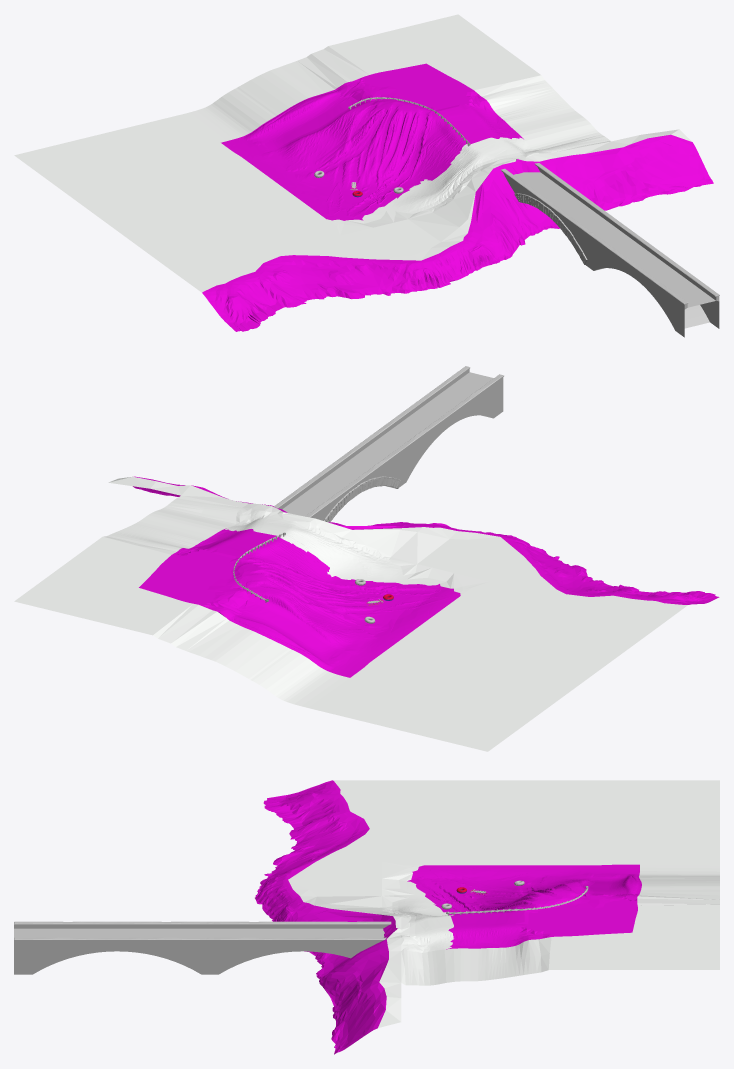
Rendered from Tubing_Landscape.fbx.
The picture shows the model from 3 angles, top to bottom: view 1: azimuth 30°, elevation 25°; view 2: azimuth 150°, elevation 25°; view 3: azimuth 270°, elevation 25°; orthographic projection. The views are drawn at different scales.
Parts seen in each view (by area): view 1: SM_Tubing_Landscape.mo, SM_Tubing_Bridge.mo; view 2: SM_Tubing_Landscape.mo, SM_Tubing_Bridge.mo; view 3: SM_Tubing_Landscape.mo, SM_Tubing_Bridge.mo.
Part boxes in pixels (x1=…): SM_Tubing_Landscape.mo: x1=14, y1=14, x2=713, y2=331; SM_Tubing_Bridge.mo: x1=501, y1=163, x2=719, y2=337; SM_Tubing_Landscape.mo: x1=14, y1=476, x2=719, y2=751; SM_Tubing_Bridge.mo: x1=274, y1=366, x2=503, y2=522; SM_Tubing_Landscape.mo: x1=255, y1=780, x2=719, y2=1054; SM_Tubing_Bridge.mo: x1=14, y1=921, x2=391, y2=974.
Bounding box in the file's own units: 9858 × 951 × 11408.
